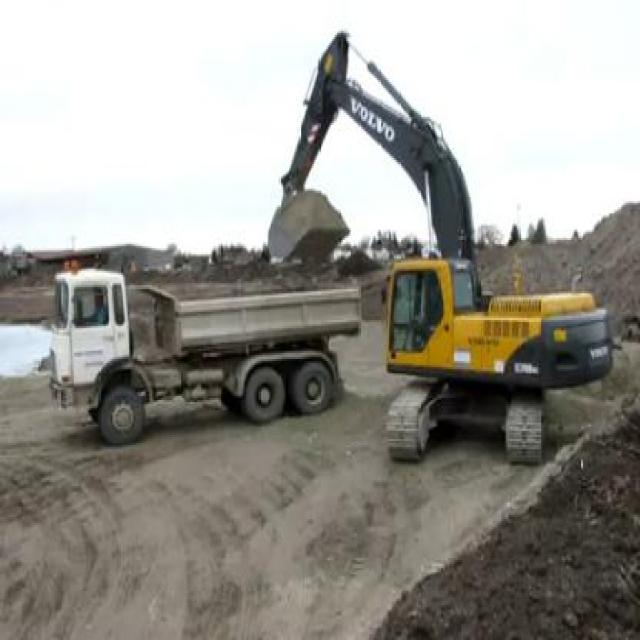Dump Truck: (48, 264, 364, 448)
Excavator: (261, 29, 617, 472)
